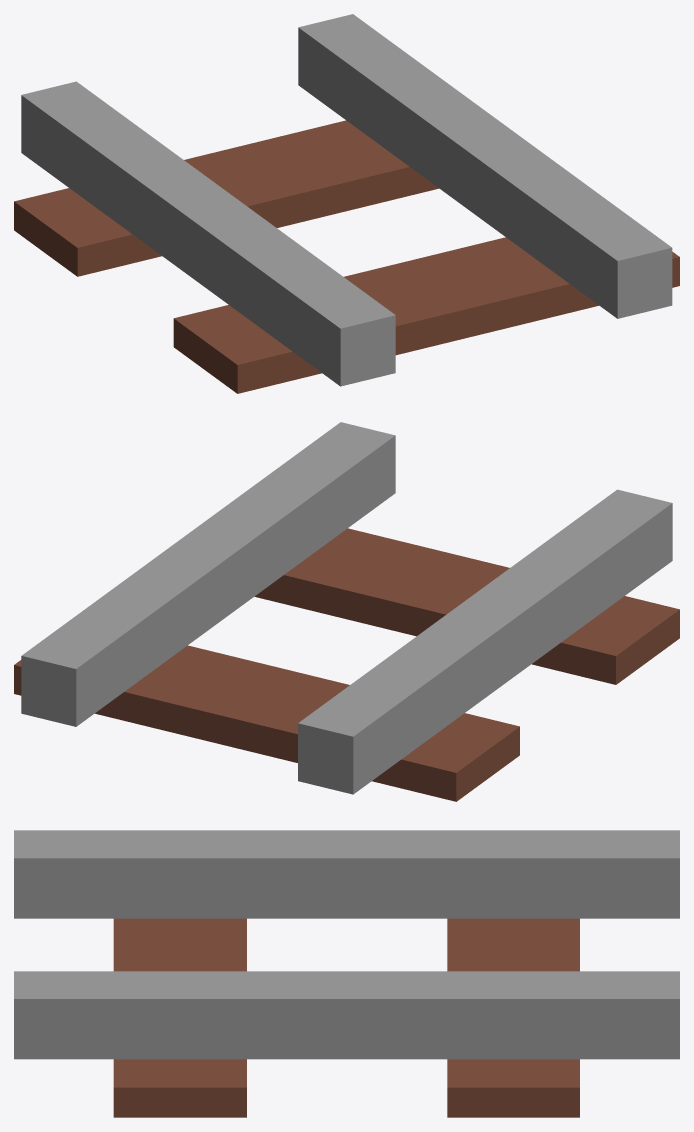
The model's file is track_straight.glb.
3 renders of one model, top to bottom at view 1: azimuth 30°, elevation 25°; view 2: azimuth 150°, elevation 25°; view 3: azimuth 270°, elevation 25°, orthographic. The views are drawn at different scales.
Visible parts, largest first — view 1: TrackStraight; view 2: TrackStraight; view 3: TrackStraight.
Boxes of the visible parts, x1,y1,x2,y2 form: TrackStraight: [14, 14, 679, 393]; TrackStraight: [14, 422, 679, 801]; TrackStraight: [14, 830, 679, 1117].
Bounding box in the file's own units: 0.8 × 0.15 × 1.
